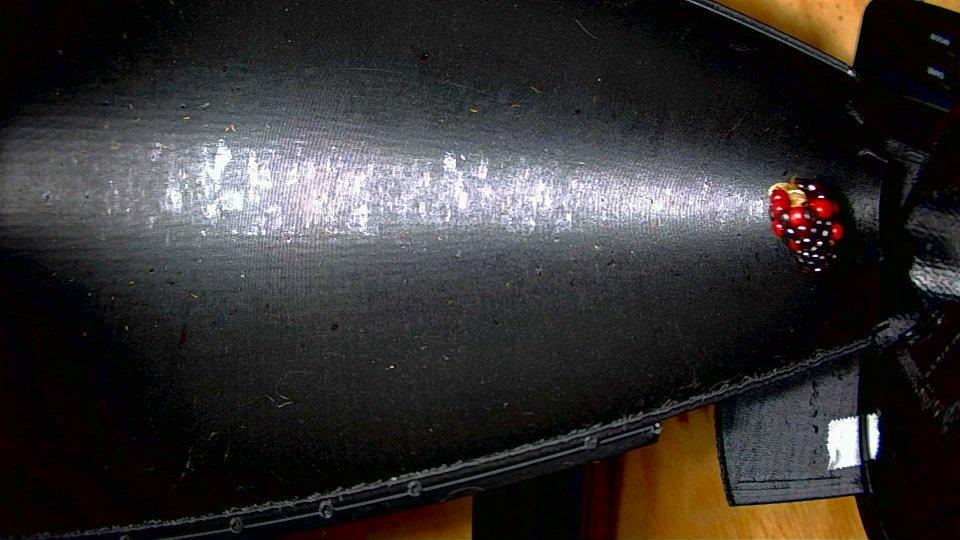berry: (768, 177, 845, 273)
